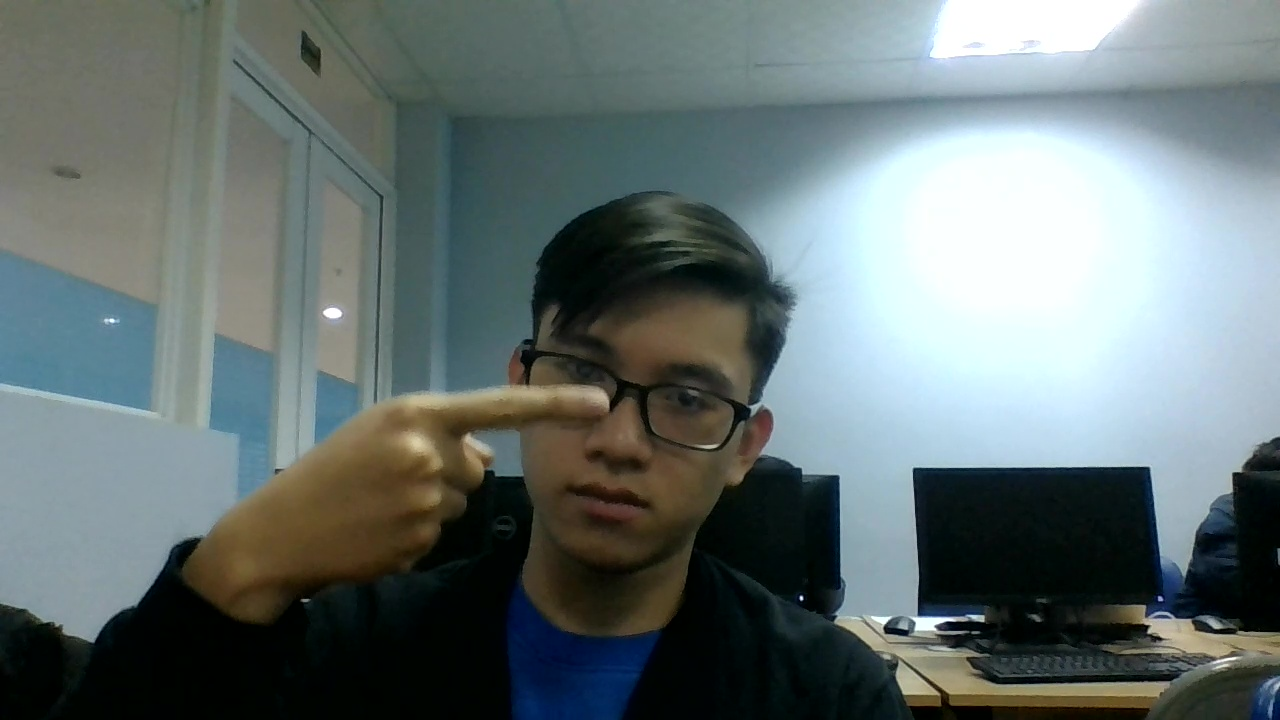left: (209, 382, 614, 584)
